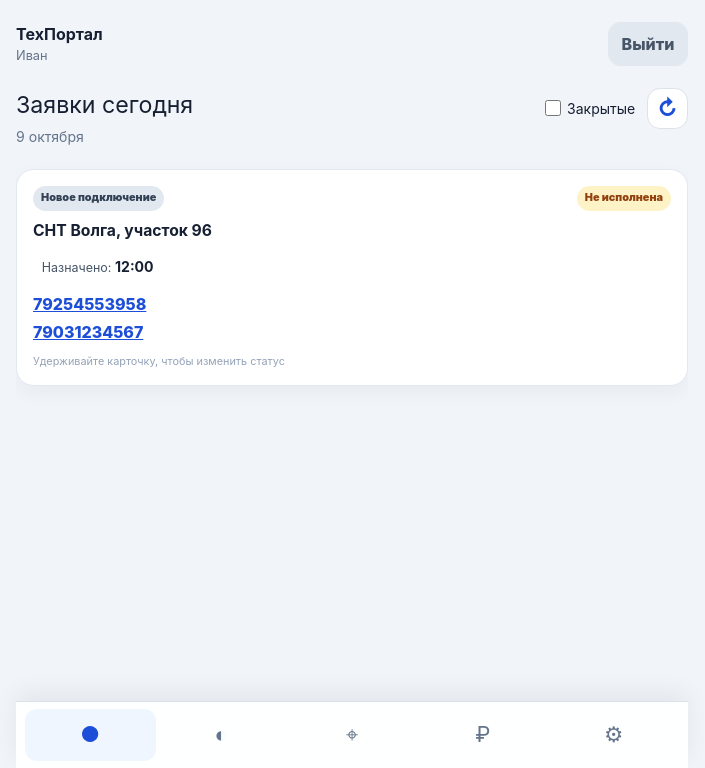
Test: Заявки › отправляет подключение без текста и фото защищённым multipart-запросом
Click the button "СНТ Волга".
click(99, 198)  # box [16,169,688,386]
(page scrolled)
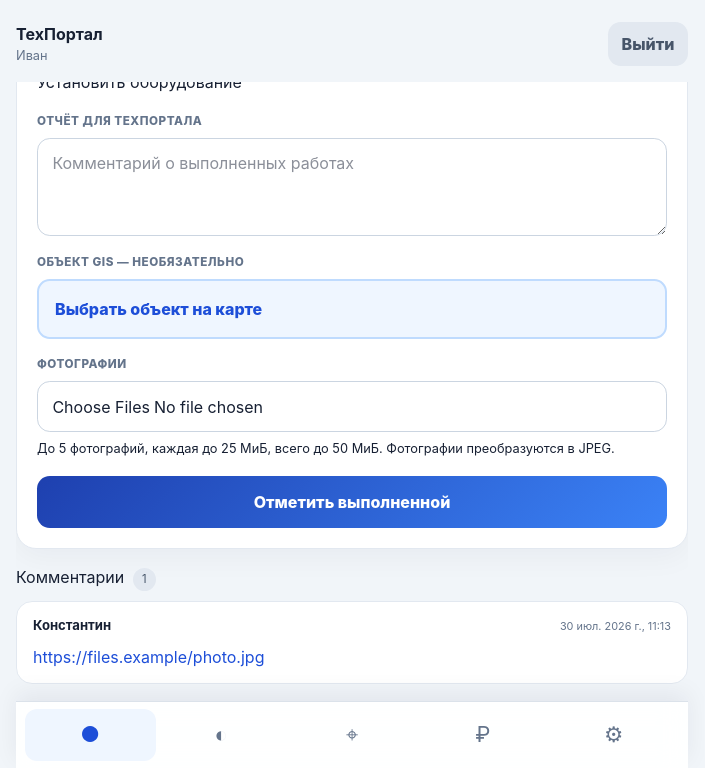
Click the button "Отметить выполненной".
click(352, 502)  # box [37,476,667,528]
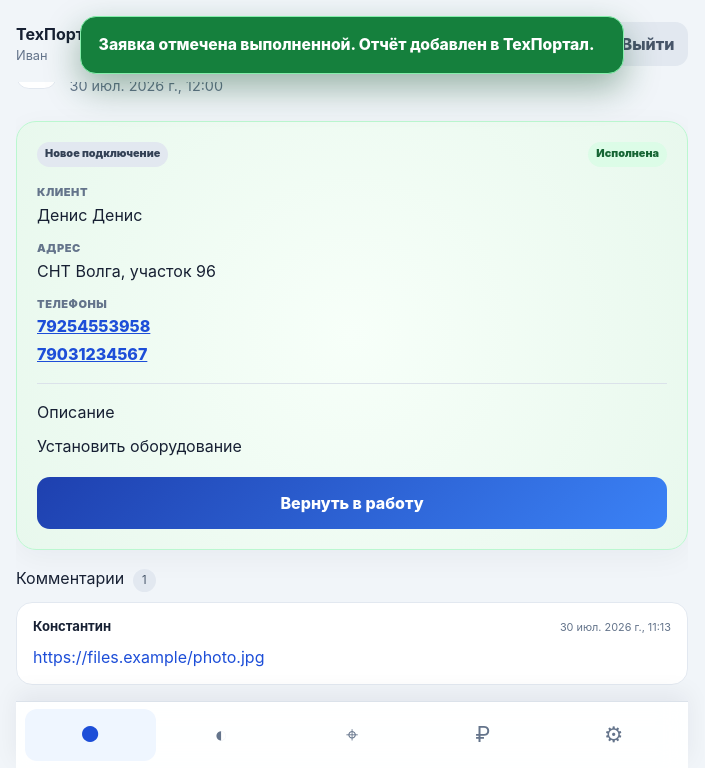
Check: the text "Заявка отмечена выполненной. Отчёт добавлен в ТехПортал." is shown, box [80,16,624,74]
